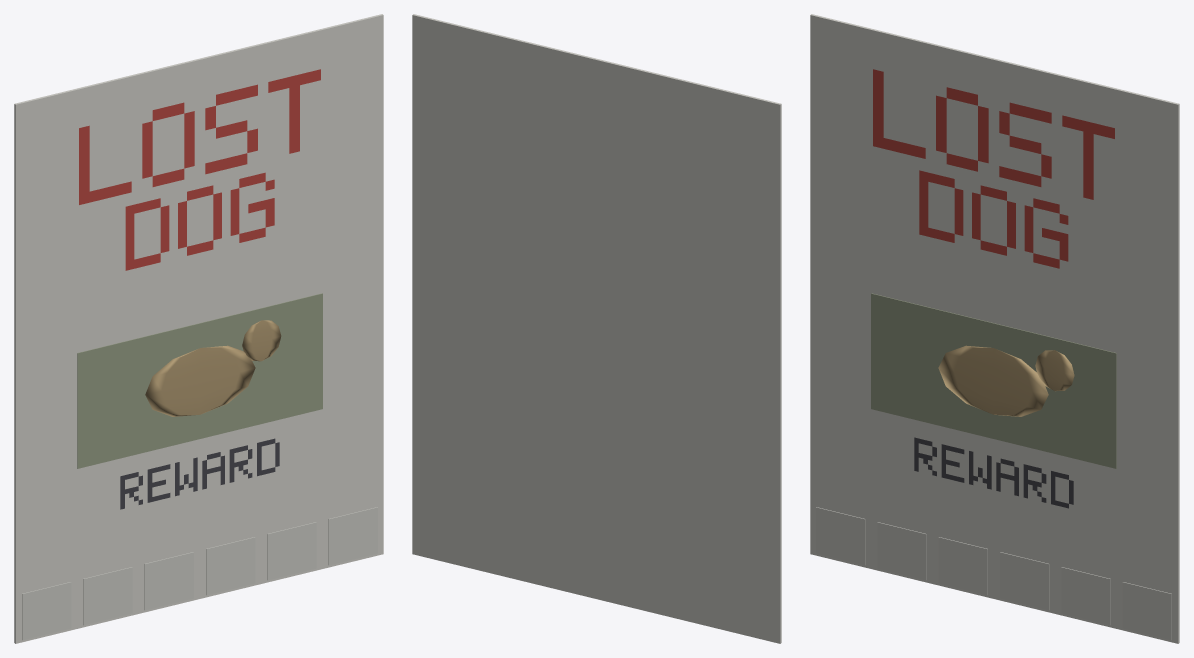
The model's file is lost_dog_poster_a.glb.
3 views of the same model, side by side, from view 1: azimuth 30°, elevation 25°; view 2: azimuth 150°, elevation 25°; view 3: azimuth 330°, elevation 25° (orthographic).
Visible parts, largest first — view 1: body; view 2: body; view 3: body.
Part boxes in pixels (x1,y1,x2,y2): body: [14, 14, 383, 643]; body: [412, 14, 781, 643]; body: [810, 14, 1179, 643].
Size of the model in its own units: 0.3 by 0.42 by 0.0036.
